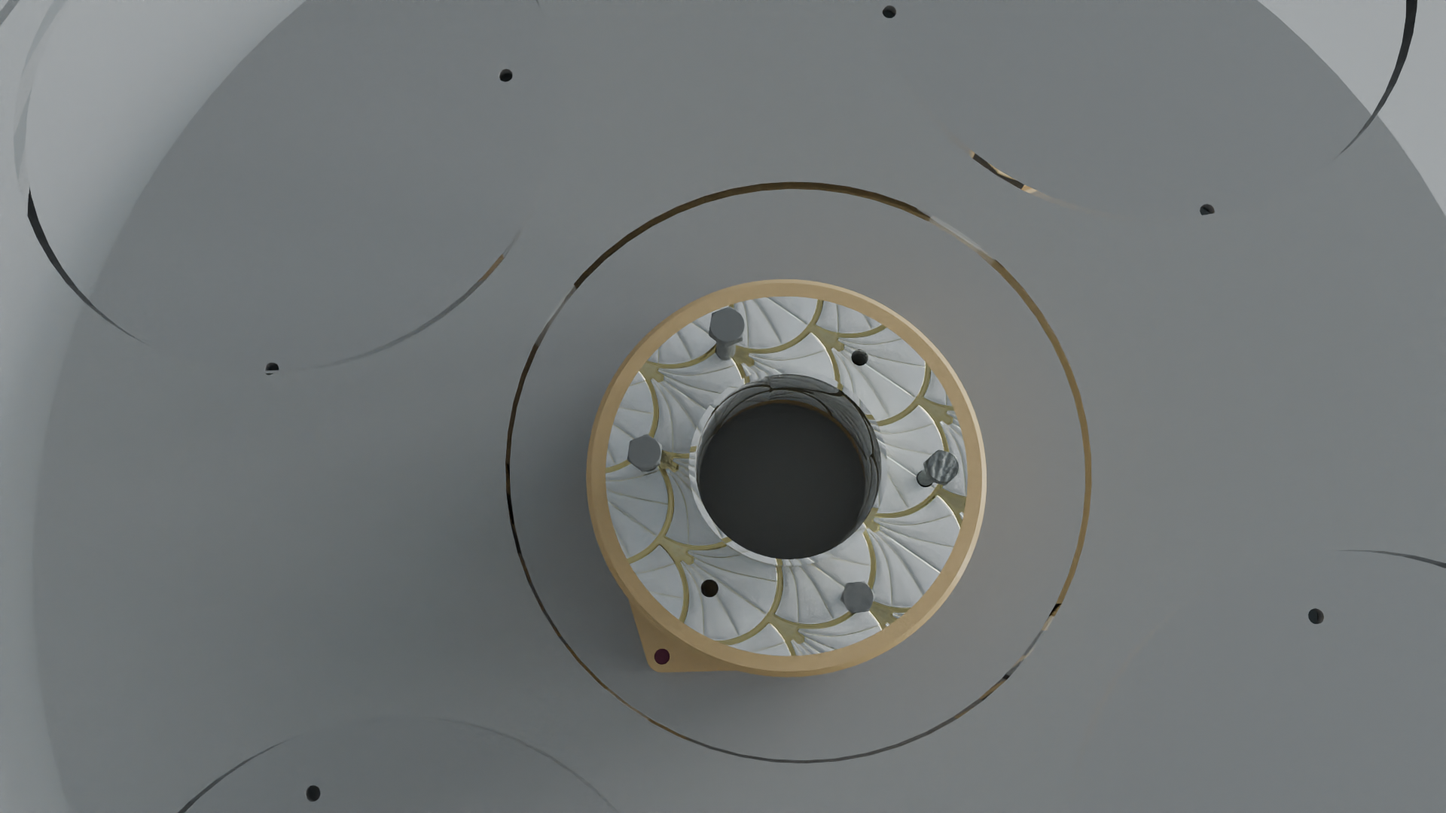bolt: (709, 306, 746, 344), (627, 434, 662, 470), (926, 449, 959, 484), (841, 581, 875, 614)
